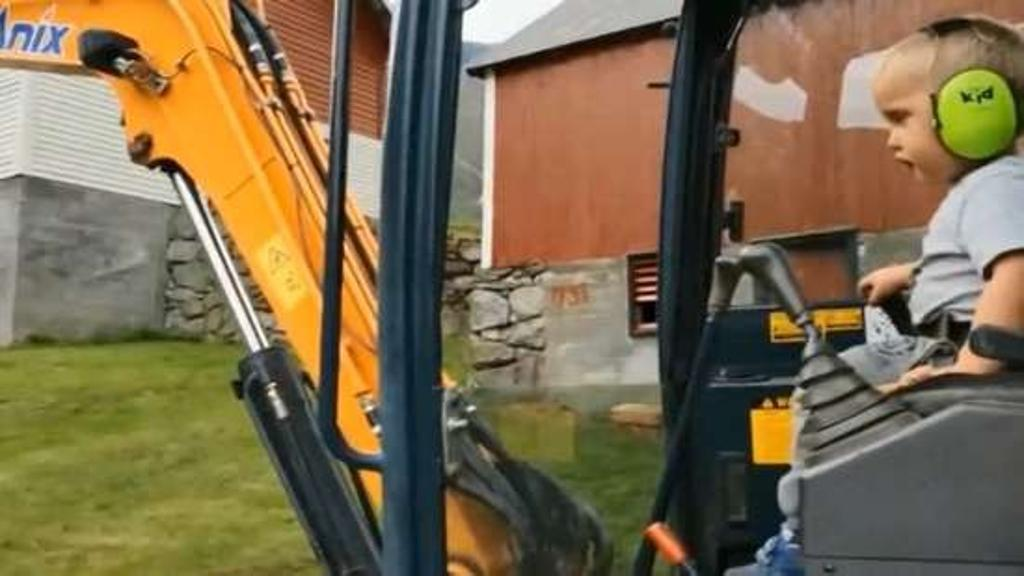face: (876, 56, 956, 186)
